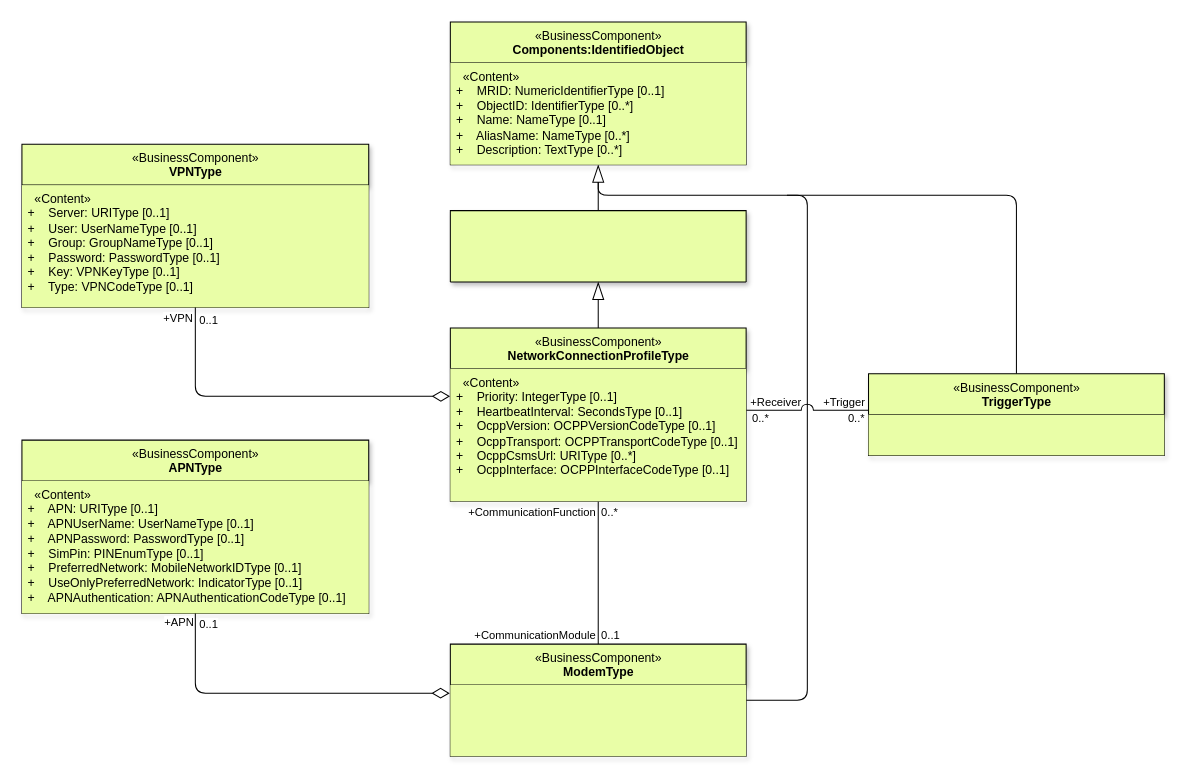
The diagram is 1188 pixels wide and 781 high, and some of its shapes have lost their labels. The centre of each missing label's shape, as x and y in pixels:
"« BusinessComponent » RootModel::DeviceFunctionType" goes at (x=598, y=247).
"«Content» + ICCID: SimIdentifierType [0..1] + IMSI: SimIdentifierType [0..1]" goes at (x=598, y=720).
"«Content» + TriggerCode: MessageTriggerEnumType [0..1]" goes at (x=1016, y=434).
